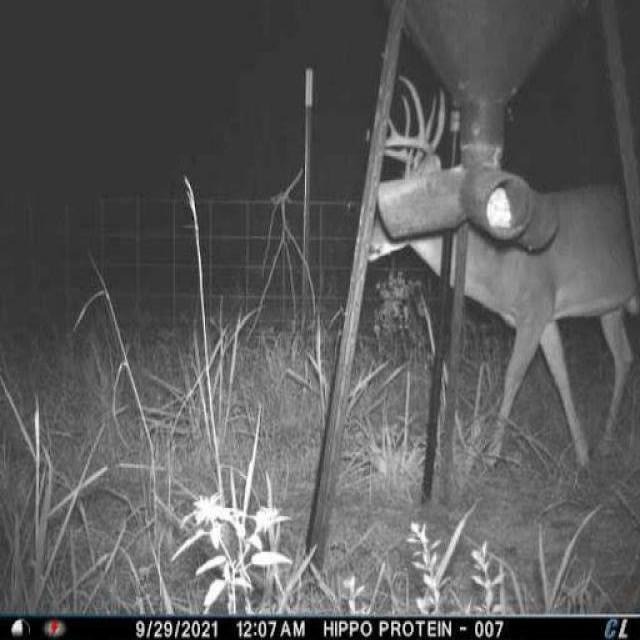deer: (361, 67, 640, 501)
